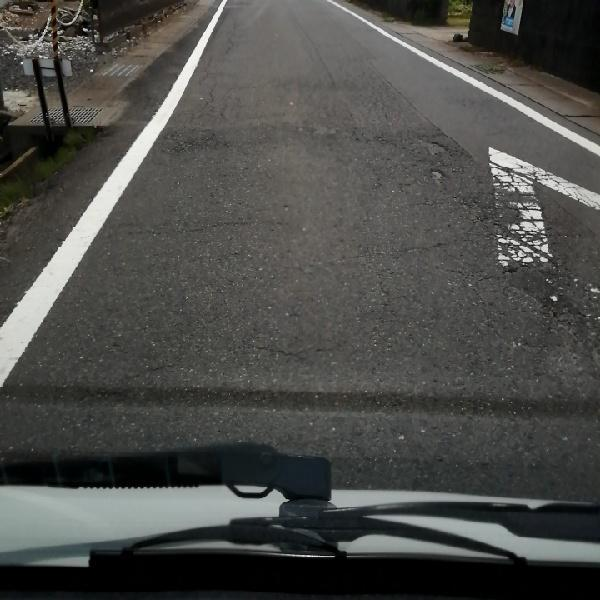D10: (375, 231, 524, 286), (149, 206, 297, 244), (231, 336, 350, 362), (112, 361, 183, 380)
D20: (484, 139, 593, 226)
D40: (422, 135, 453, 154), (424, 164, 449, 181)
